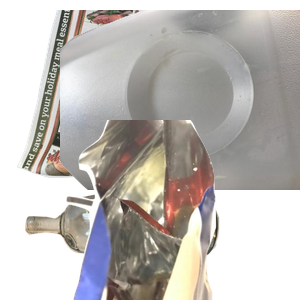glass: (22, 192, 234, 300)
paper: (14, 10, 254, 190)
plastic: (60, 10, 300, 190)
trash: (63, 120, 300, 300)
